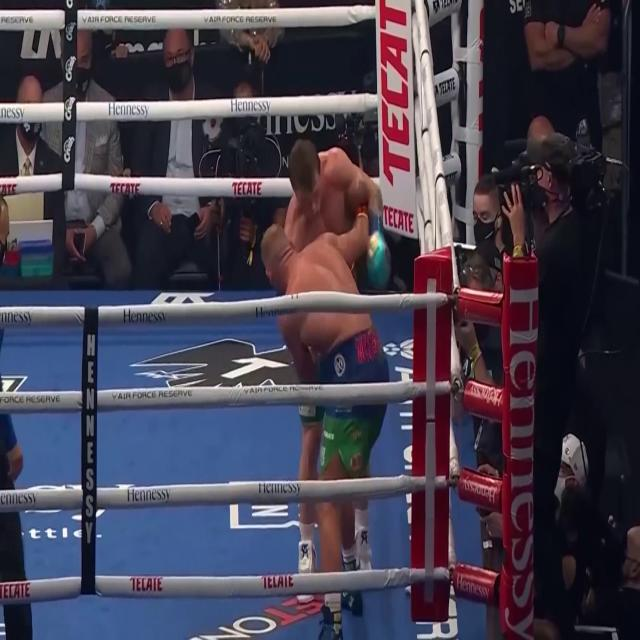boxer_1: (260, 226, 371, 356)
boxer_2: (287, 139, 347, 294)
gloves_1: (356, 203, 368, 216)
gloves_2: (366, 184, 395, 289)
